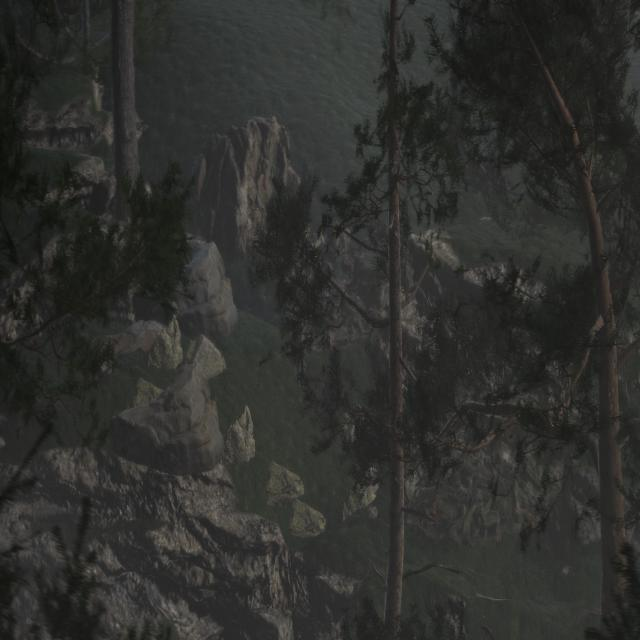Human: (289, 300, 313, 413)
